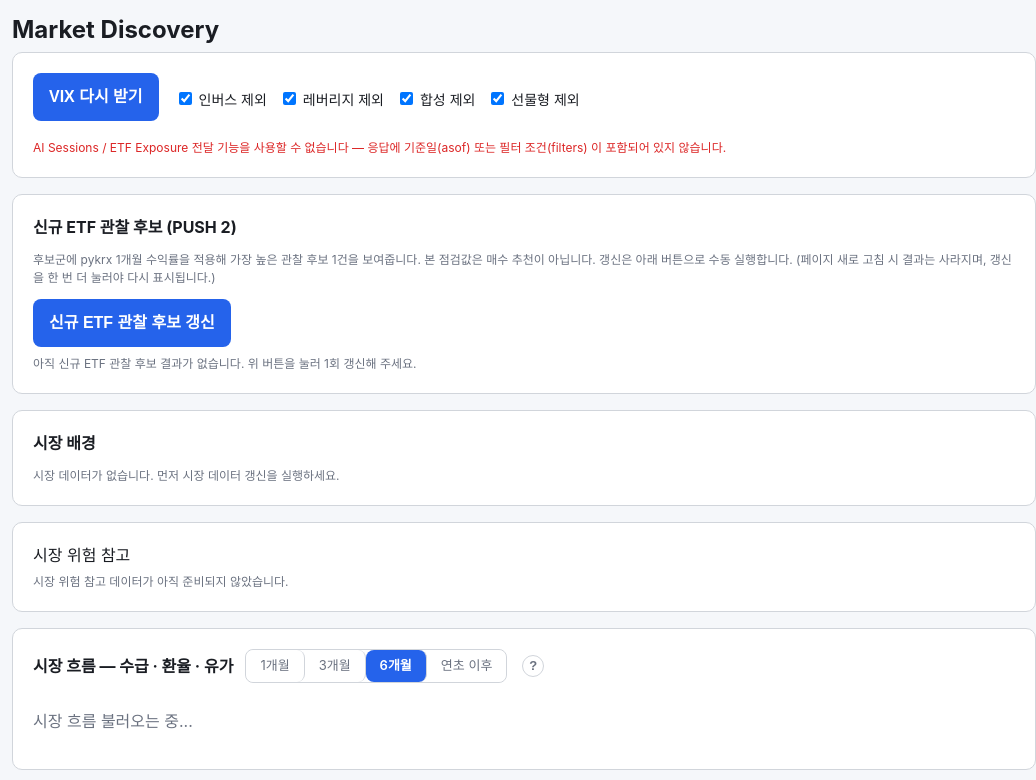
Test case: 'VIX 다시 받기' 버튼 (POC5-12) › 다시 받기 실패 → '확인 필요: …' · 버튼은 그대로 'VIX 다시 받기' · 시장 다시 읽기 없음
Click the button "VIX 다시 받기".
click(96, 97)  # box [33,73,159,121]
Wait 4100 ms
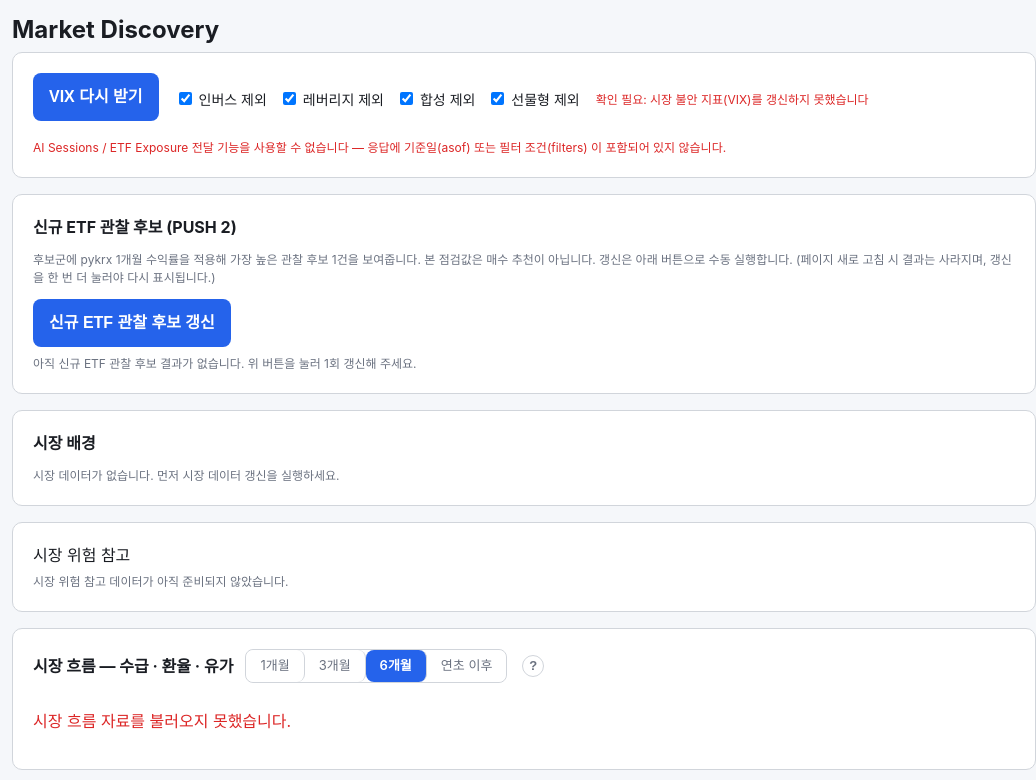
expect the text "확인 필요: 시장 불안 지표(VIX)를 갱신하지 못했습니다" is shown: met, box [596,91,869,109]
